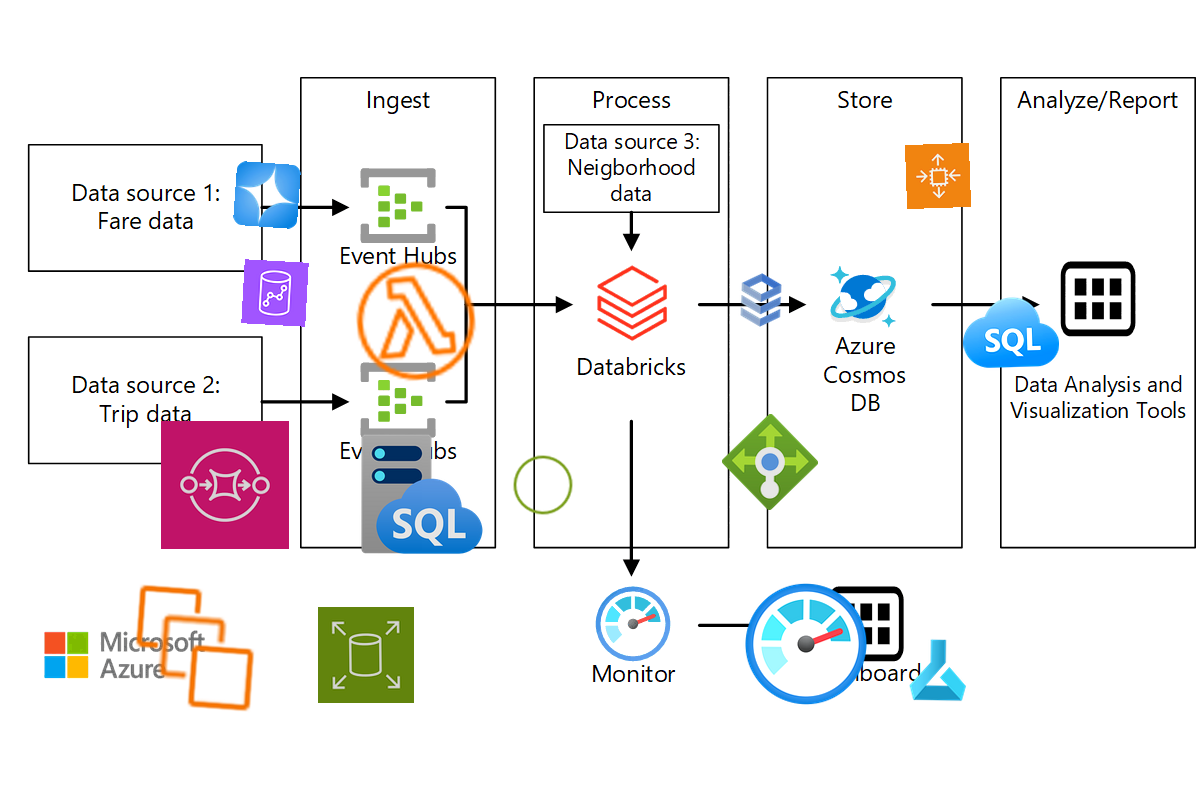aws_amazon_ec2_auto_scaling: (904, 142, 972, 210)
aws_amazon_elastic_block_store: (317, 606, 415, 704)
aws_amazon_redshift: (241, 259, 309, 327)
aws_amazon_simple_queue_service: (160, 420, 290, 550)
aws_ec2_instances: (126, 579, 264, 717)
aws_lambda_lambda_function: (346, 251, 486, 391)
aws_simple_storage_service_object: (509, 451, 577, 519)
azure_load_balancers: (721, 413, 819, 511)
azure_machine_learning: (905, 637, 971, 703)
azure_monitor: (741, 579, 871, 709)
azure_openai: (232, 160, 302, 230)
azure_sql: (961, 284, 1061, 384)
azure_sql_managed_instance: (357, 429, 487, 559)
gcp_cloud_sql: (727, 266, 795, 334)
